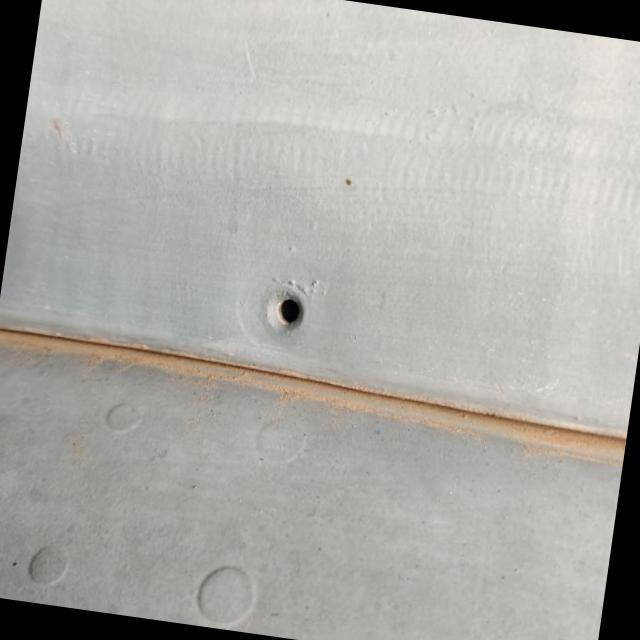Missing Fastener: (246, 276, 312, 348)
